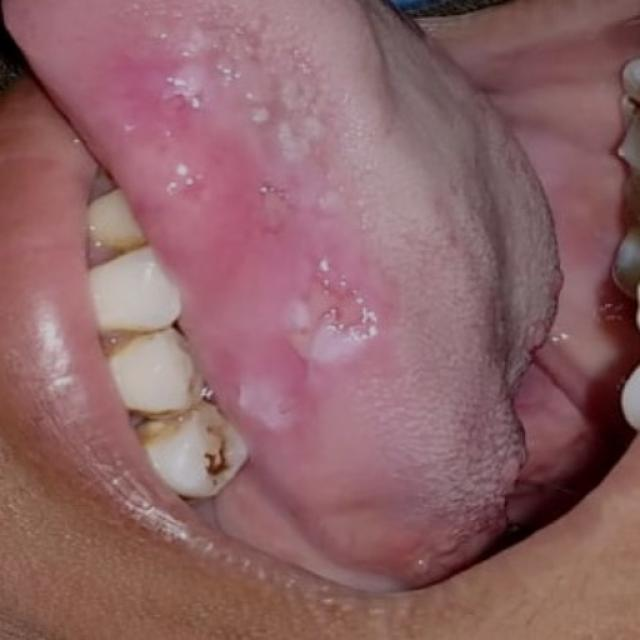leukoplakia-like-detection: (79, 22, 433, 469)
processing_area: (2, 0, 638, 592)
